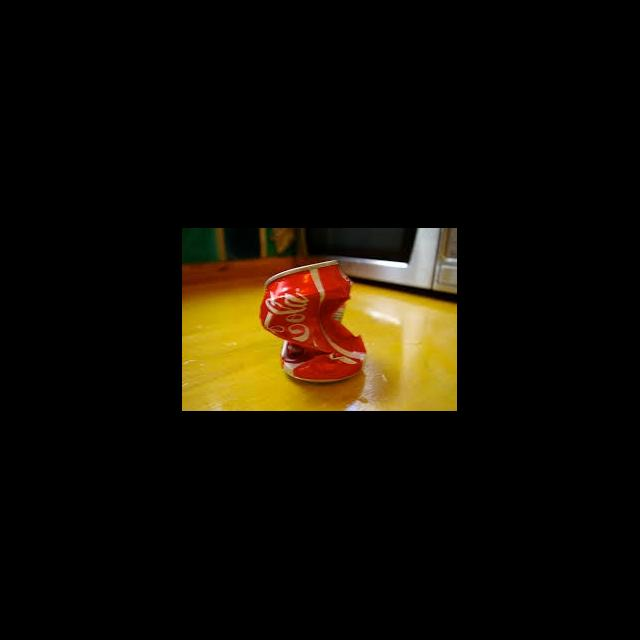metal: (255, 254, 376, 390)
